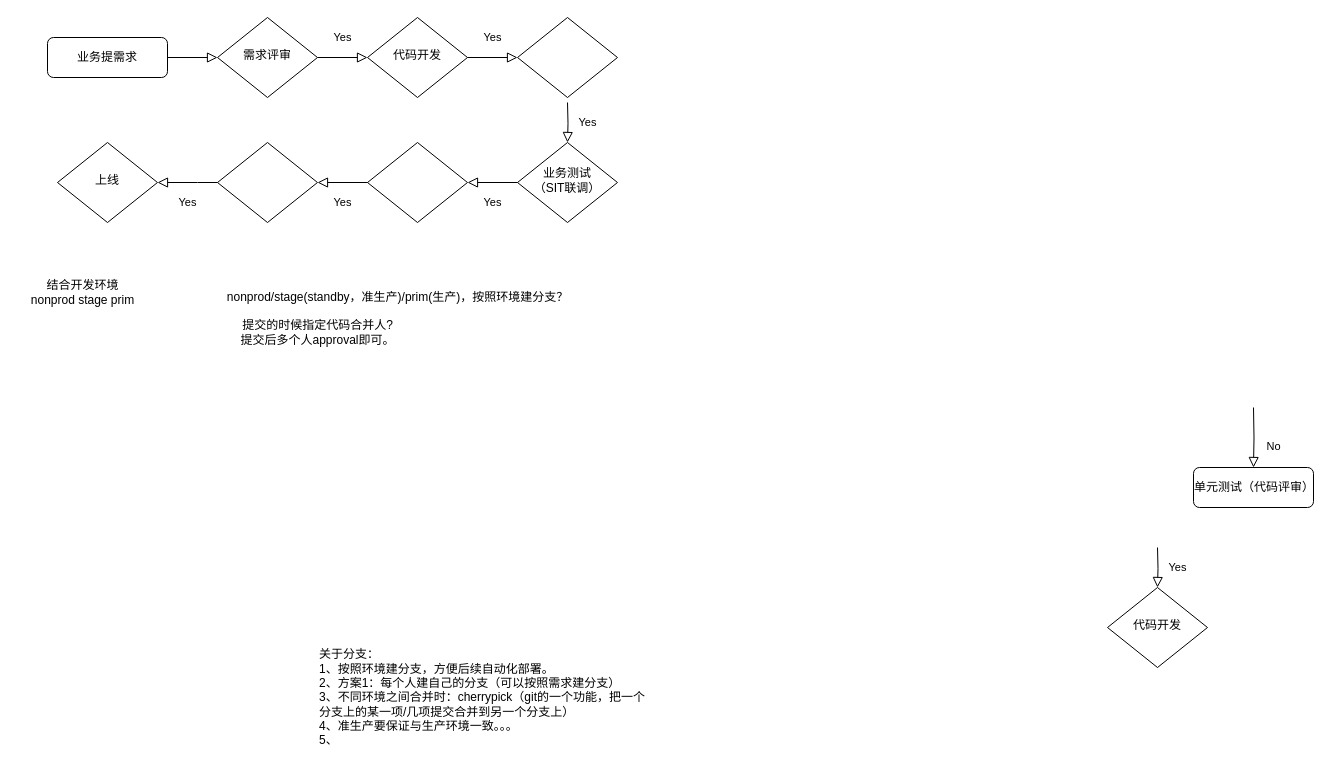
Some shapes in this 1331 by 765 pixel diagram are drawn without their labels. Here are the shapes that lost their labels. From the top down, the box of each, then its label:
(516, 16, 618, 98): 单元测试 （代码评审）
(216, 142, 318, 222): 打包准备下发（包含代码走查）
(366, 142, 468, 222): UAT仿真测试
